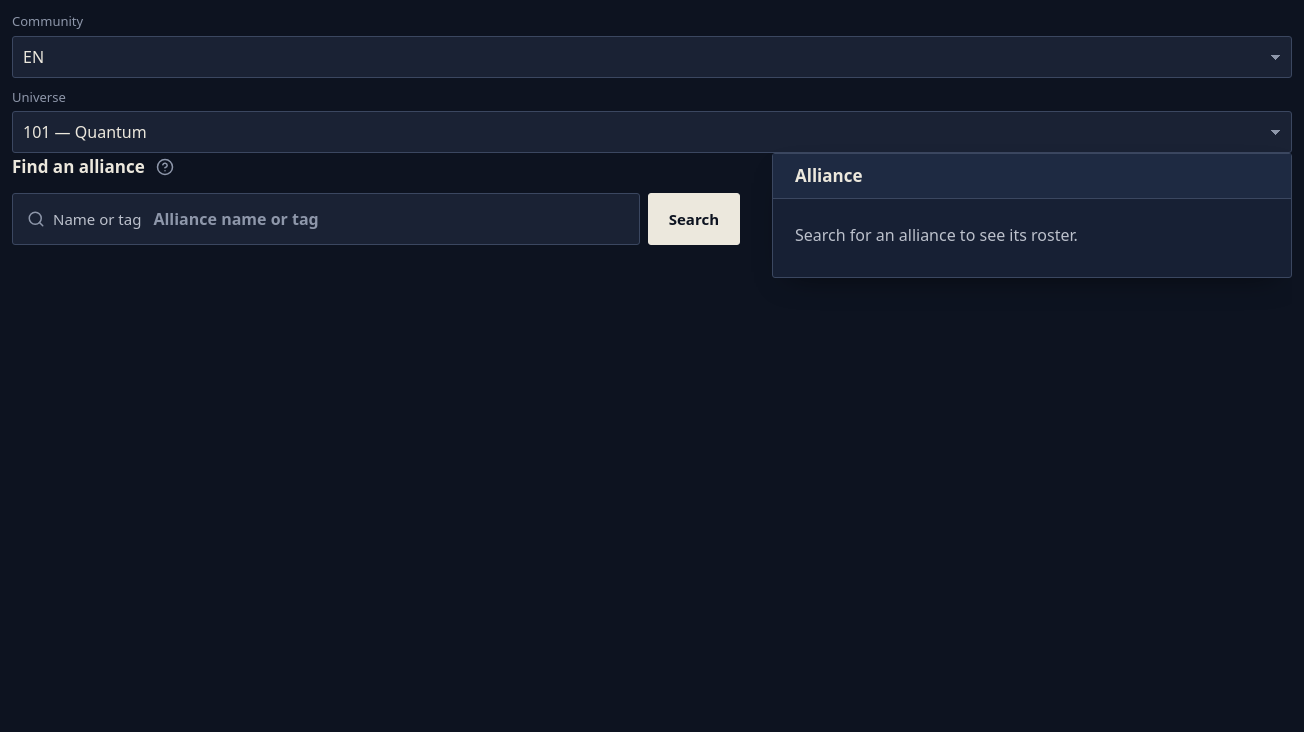
Scenario: <Alliances /> › keeps a member it could not resolve, labelled by id
This screenshot has width=1304, height=732.
Check: the dropdown labelled "Community" is shown, box [12, 36, 1292, 78]
Type "twa" into the search field at [389, 219], box [153, 195, 625, 243]
Then press Enter
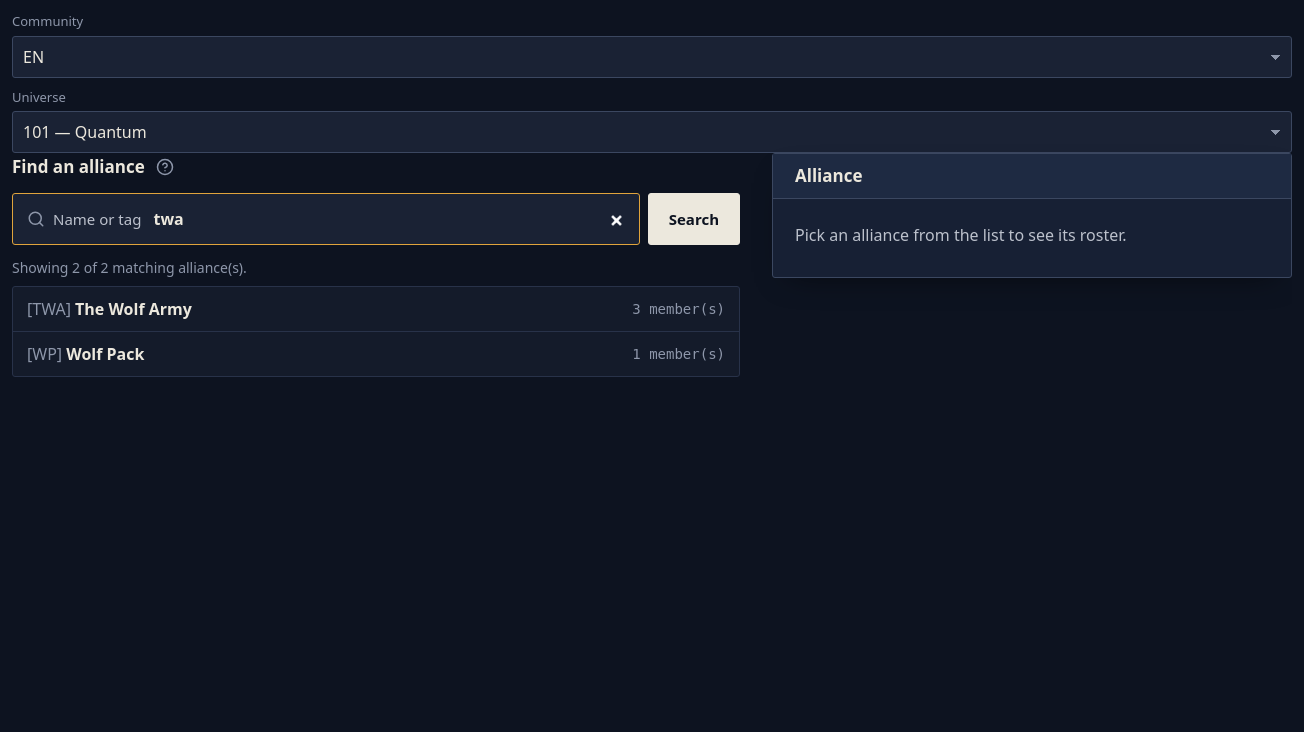
Click the button "[TWA] The Wolf Army 3 member(s)" at [49, 309], box [13, 287, 739, 331]
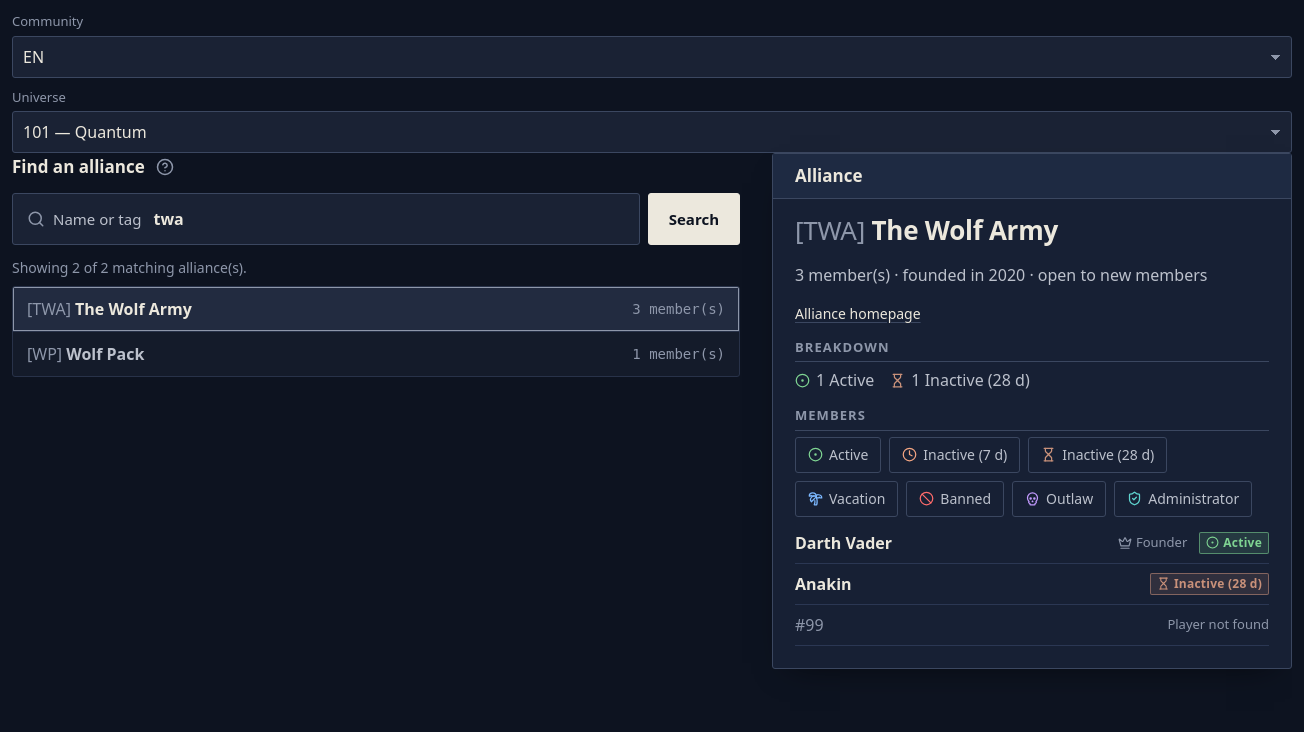
Check: the text "#99" is shown, box [795, 613, 824, 637]
Check: the text "Player not found" is shown, box [1167, 615, 1269, 634]
